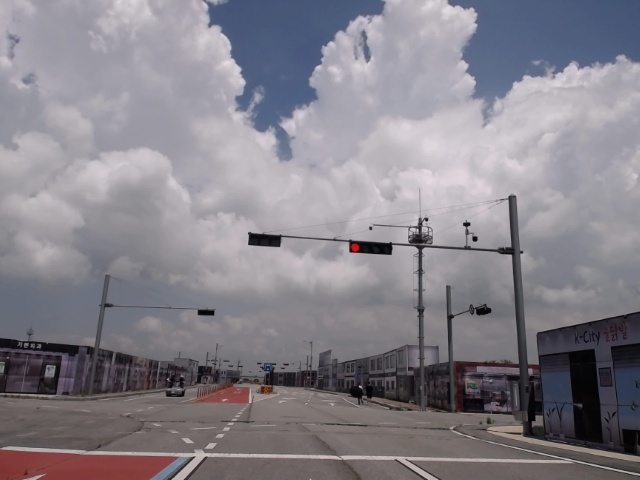red_4: (350, 241, 391, 255)
